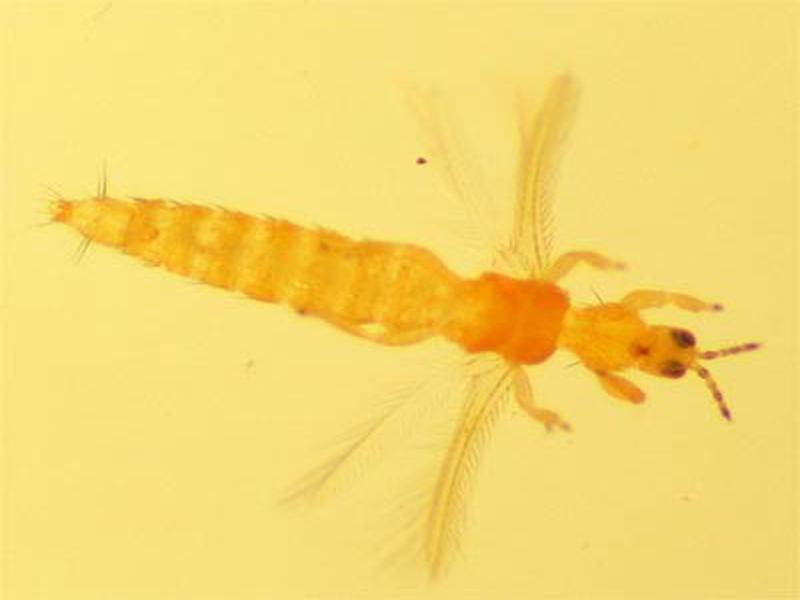Thrips: (34, 175, 758, 471)
